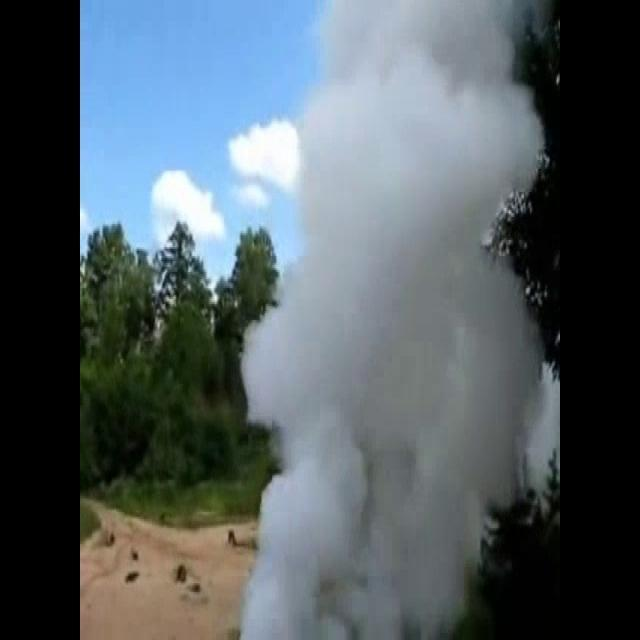Smoke: (236, 0, 561, 640)
